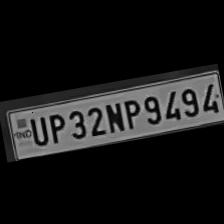2: (81, 100, 107, 137)
3: (62, 103, 88, 140)
4: (156, 84, 182, 122), (194, 77, 219, 114)
9: (174, 82, 200, 118), (138, 89, 162, 126)
N: (100, 96, 124, 134)
P: (119, 93, 143, 130), (44, 108, 68, 144)
U: (24, 111, 48, 146)
